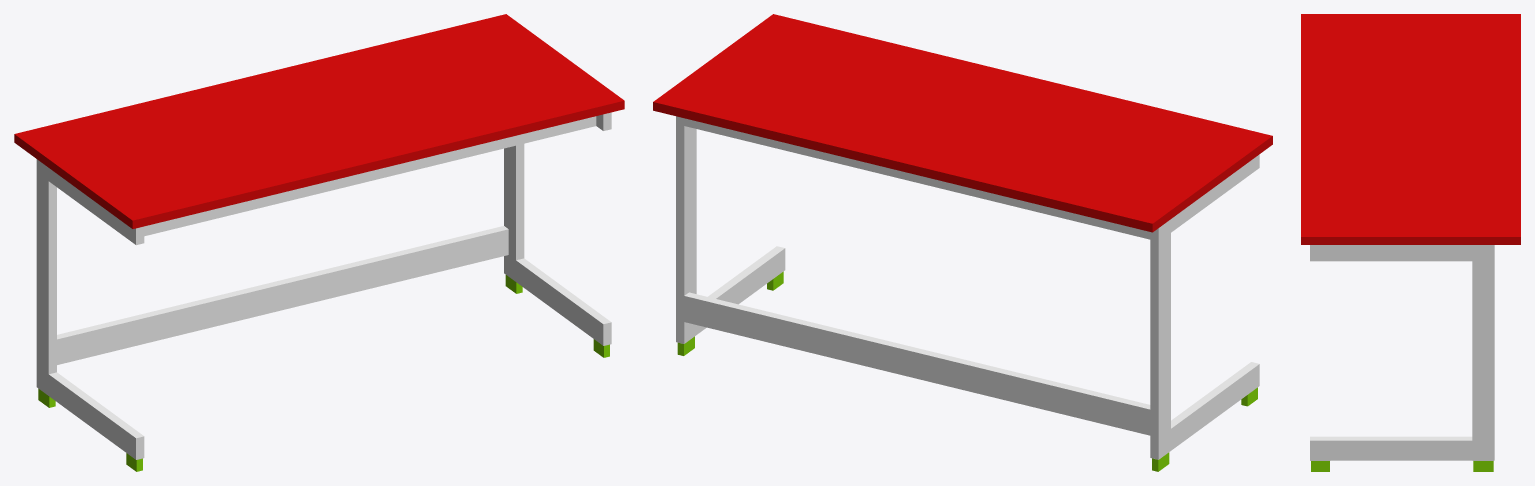
File: Desk02.fbx
3 renders of one model, left to right at view 1: azimuth 30°, elevation 25°; view 2: azimuth 150°, elevation 25°; view 3: azimuth 270°, elevation 25°, orthographic. The views are drawn at different scales.
Visible parts, largest first — view 1: Desk02; view 2: Desk02; view 3: Desk02.
Boxes of the visible parts, x1=… form: Desk02: x1=14, y1=14, x2=624, y2=471; Desk02: x1=653, y1=14, x2=1272, y2=471; Desk02: x1=1301, y1=14, x2=1520, y2=471.
Size of the model in its own units: 150 by 75 by 62.5.
